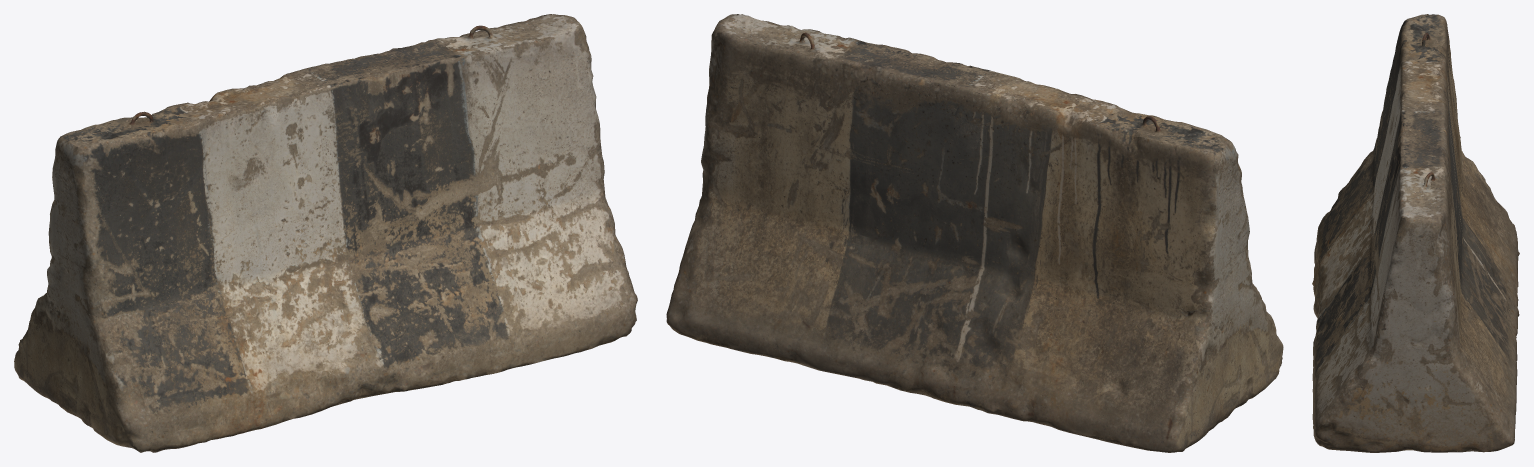
The model's file is PG_ConcreteRoadBarrier.fbx.
The picture shows the model from 3 angles, left to right: view 1: azimuth 30°, elevation 25°; view 2: azimuth 150°, elevation 25°; view 3: azimuth 270°, elevation 25°; orthographic projection. The views are drawn at different scales.
Parts seen in each view (by area): view 1: concrete_road_barrier; view 2: concrete_road_barrier; view 3: concrete_road_barrier.
Boxes of the visible parts, <box> form: concrete_road_barrier: <box>14,14,637,452</box>; concrete_road_barrier: <box>666,14,1283,452</box>; concrete_road_barrier: <box>1312,14,1519,452</box>.
Bounding box in the file's own units: 1.55 × 0.8308 × 0.6387.
1 material, 1 textured.
